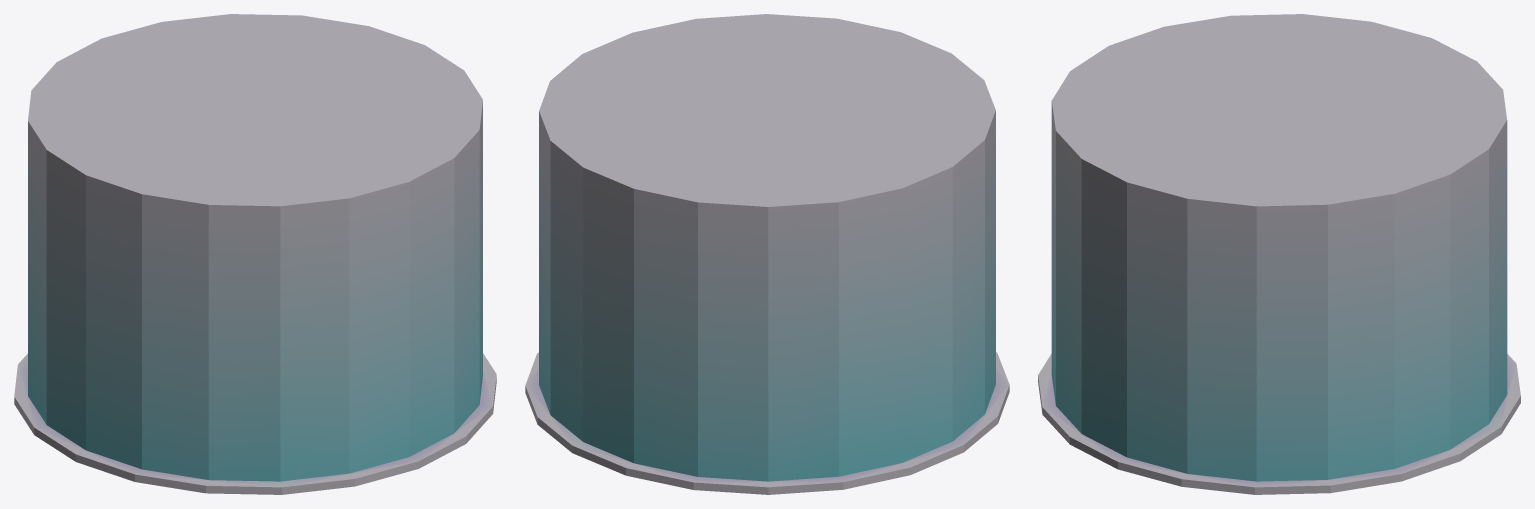
3 views of the same model, side by side, from view 1: azimuth 30°, elevation 25°; view 2: azimuth 150°, elevation 25°; view 3: azimuth 270°, elevation 25° (orthographic).
Visible parts, largest first — view 1: body, rim; view 2: body, rim; view 3: body, rim.
Part boxes in pixels (x1,y1,x2,y2): body: (28, 14, 482, 481); rim: (14, 353, 496, 494); body: (539, 14, 995, 481); rim: (525, 352, 1009, 494); body: (1051, 14, 1507, 481); rim: (1038, 354, 1520, 494).
Bounding box in the file's own units: 2.98 × 1.93 × 2.98.
